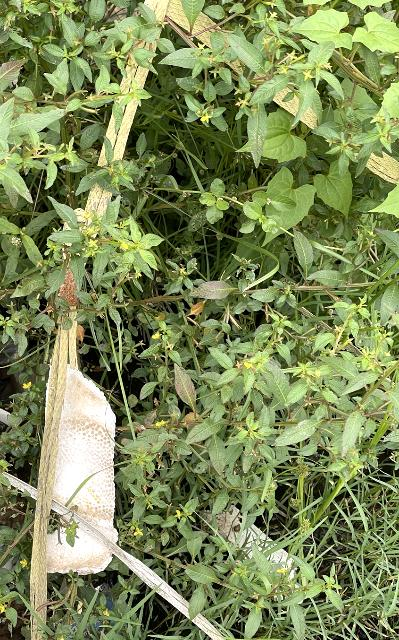cocksheet: (49, 361, 133, 570)
